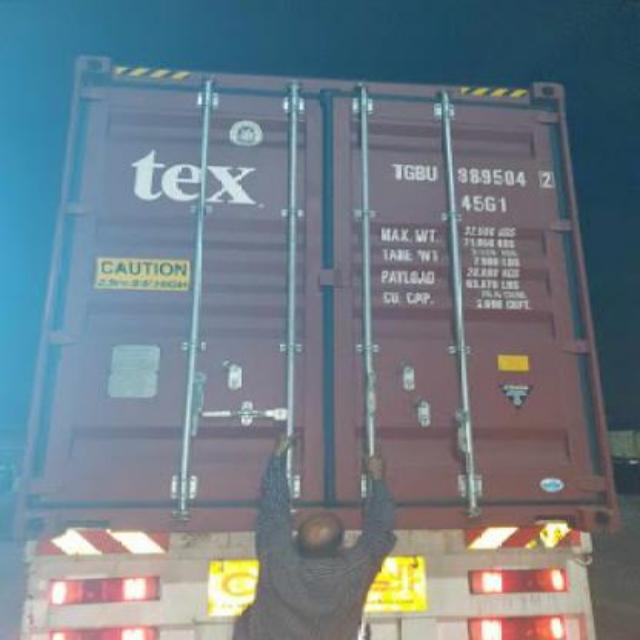0: (504, 169, 516, 187)
2: (538, 172, 556, 188)
4: (516, 170, 528, 186)
5: (490, 166, 506, 188)
8: (468, 166, 482, 188), (458, 167, 468, 183)
9: (481, 169, 494, 185)
B: (416, 164, 426, 180)
G: (404, 164, 416, 182)
T: (391, 163, 404, 179)
U: (426, 164, 442, 180)
